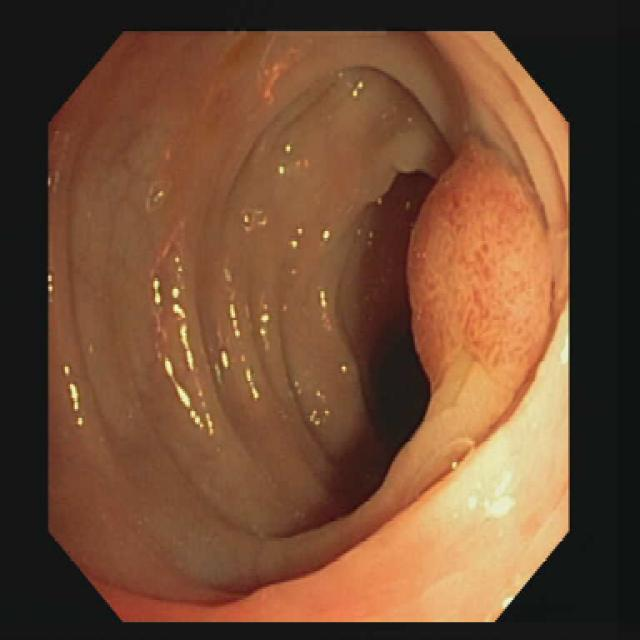tumor: (408, 142, 565, 429)
